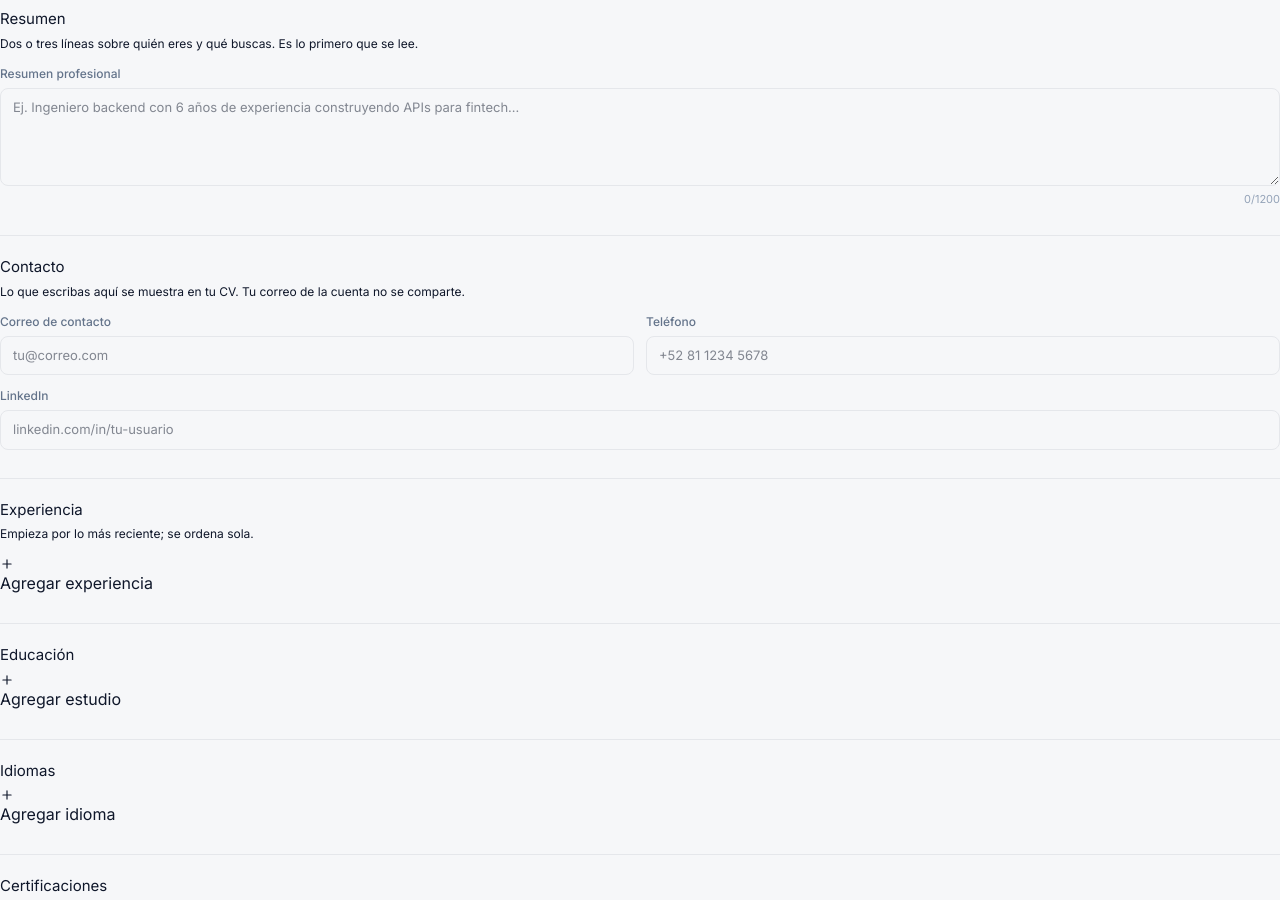
Test case: experience › lets someone say the job ended, and go back to "current"
The width and height of the screenshot is (1280, 900).
Later steps or results of the test are not shown.
Click the button "Agregar experiencia" at [76, 576], box [0, 557, 153, 595]
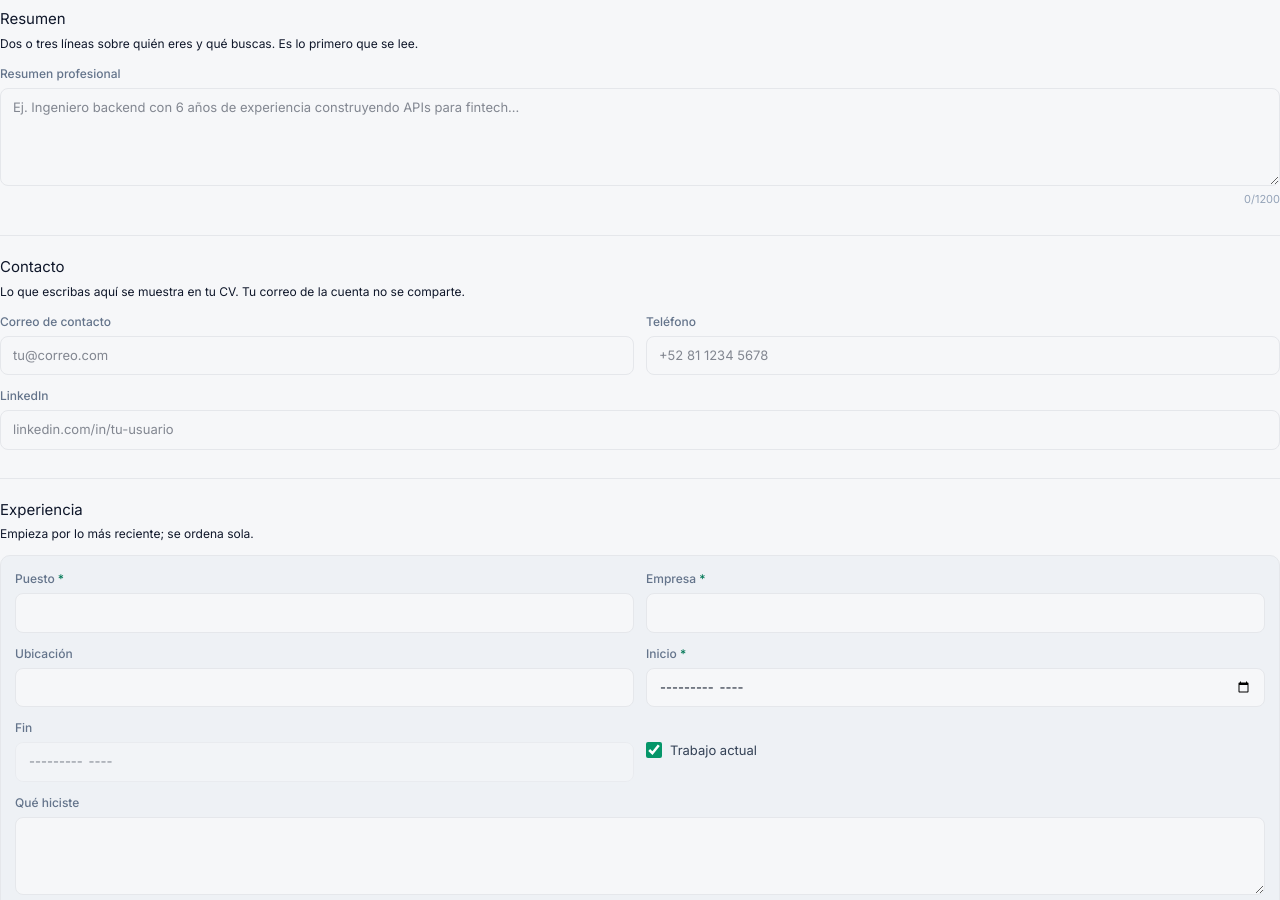
Click the checkbox named "Trabajo actual (experiencia 1)" at [654, 750], box [646, 742, 662, 758]
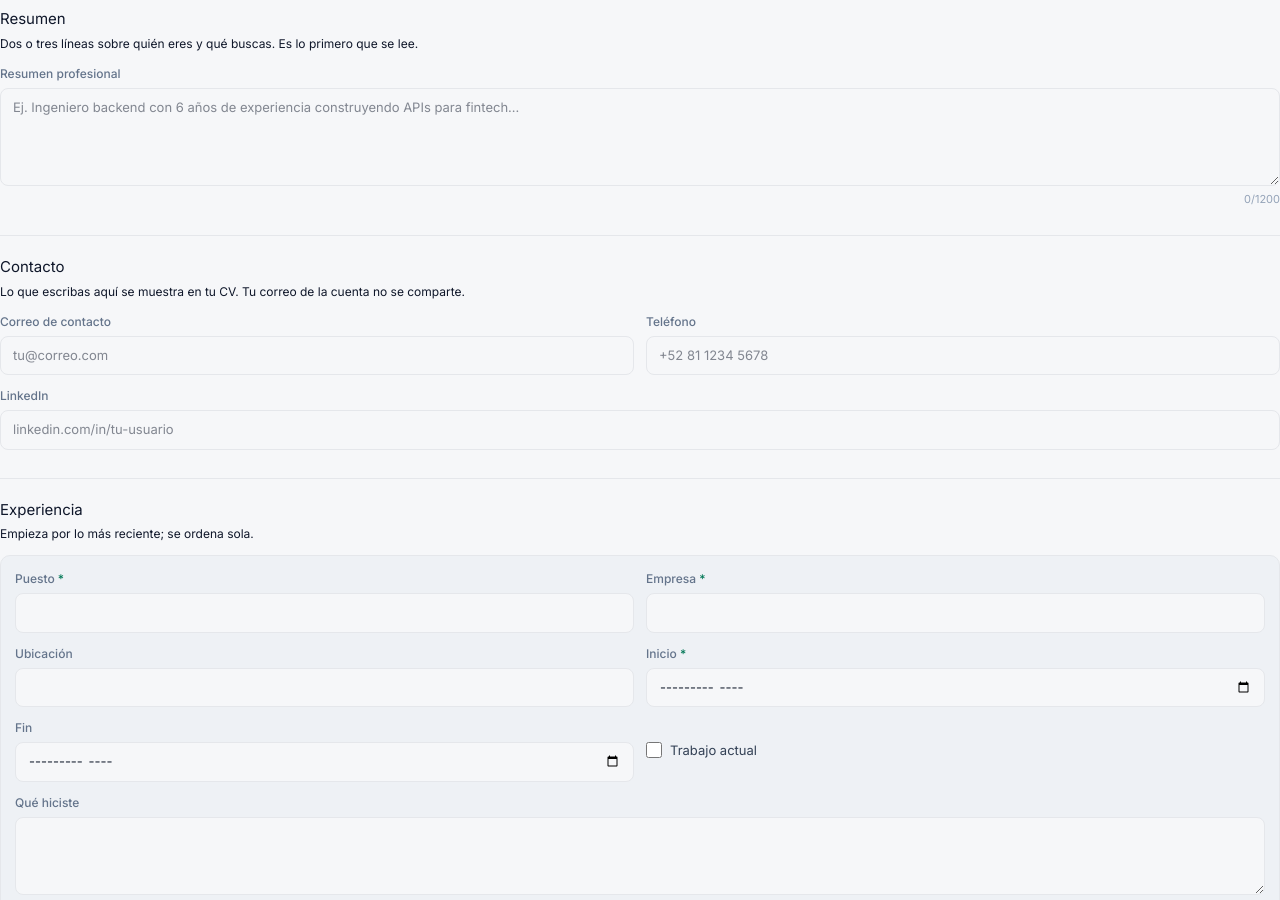
Now the field named "Fin (experiencia 1)" is enabled, box [15, 742, 634, 782]
